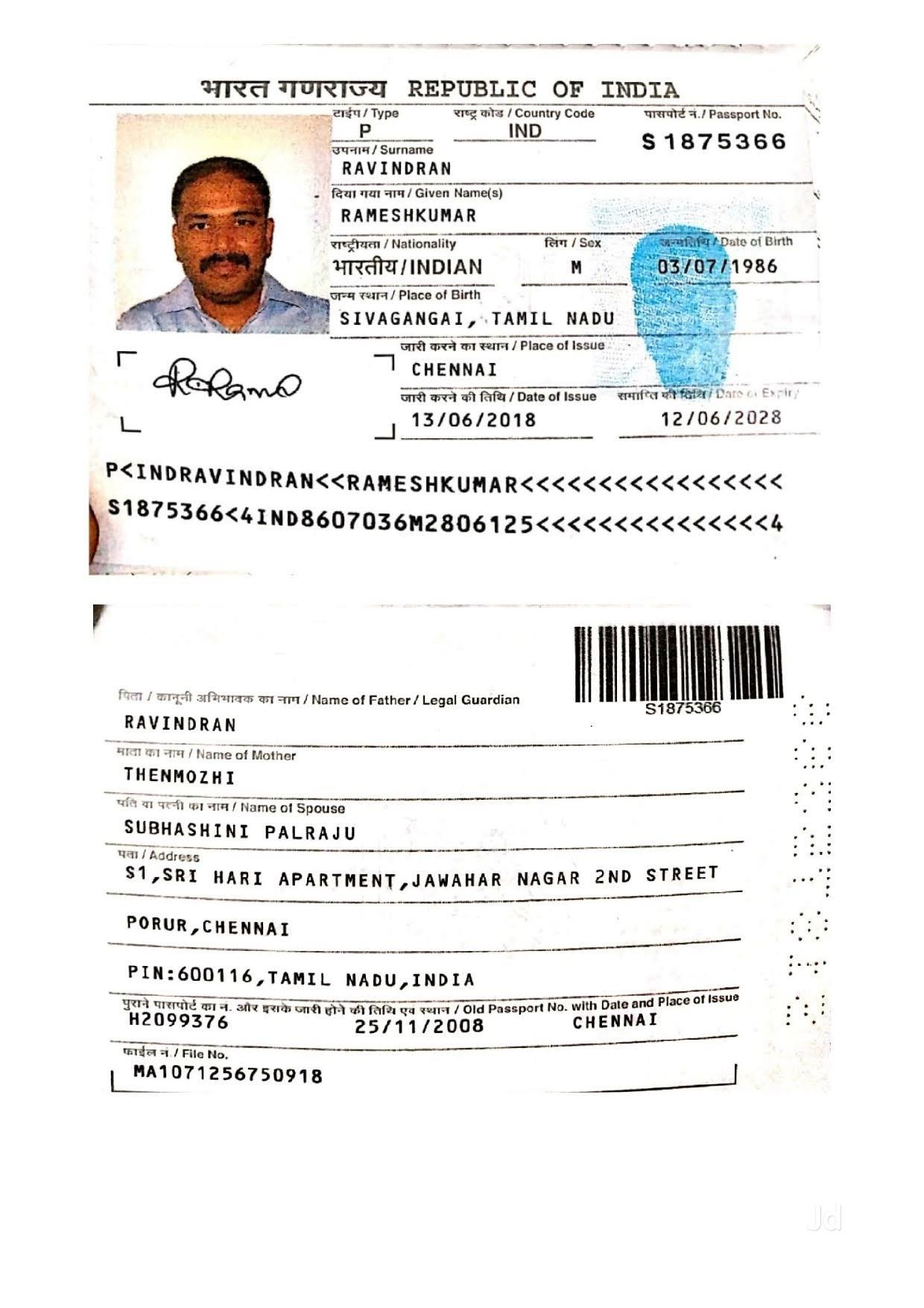DOB: (648, 250, 796, 282)
File_no: (116, 1057, 339, 1096)
Surname: (335, 155, 462, 180)
address: (116, 859, 728, 990)
country_code: (496, 118, 569, 142)
date_of_expiry: (651, 405, 801, 432)
date_of_issue: (405, 401, 544, 437)
details: (97, 452, 800, 552)
father_name: (118, 707, 251, 740)
mother_name: (118, 759, 245, 791)
name: (335, 198, 489, 230)
nationality: (334, 252, 489, 286)
old_passport_details: (119, 1005, 687, 1038)
passport_no: (631, 124, 795, 155), (638, 699, 728, 721)
photo: (116, 117, 328, 337)
place_of_birth: (335, 304, 625, 334)
place_of_issue: (404, 355, 507, 385)
sex: (563, 251, 596, 295)
sign: (148, 347, 320, 420)
spouse_name: (115, 809, 362, 850)
type: (349, 118, 387, 141)
